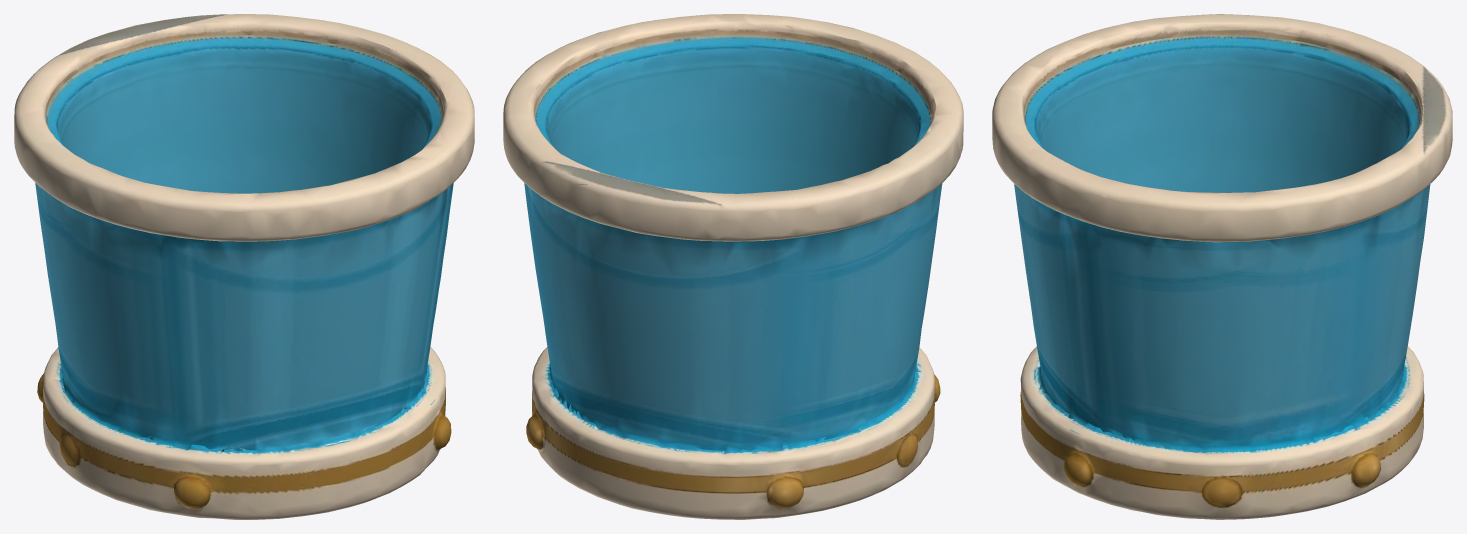
Rendered from device-bucket.glb.
3 views of the same model, side by side, from view 1: azimuth 30°, elevation 25°; view 2: azimuth 150°, elevation 25°; view 3: azimuth 270°, elevation 25° (orthographic).
Parts seen in each view (by area): view 1: web; view 2: web; view 3: web.
Boxes of the visible parts, left/top/right/bottom form: web: left=14, top=14, right=474, bottom=519; web: left=503, top=14, right=963, bottom=519; web: left=992, top=14, right=1452, bottom=519.
Bounding box in the file's own units: 0.0845 × 0.067 × 0.0845.
Materials: 1 (1 with a texture image).
